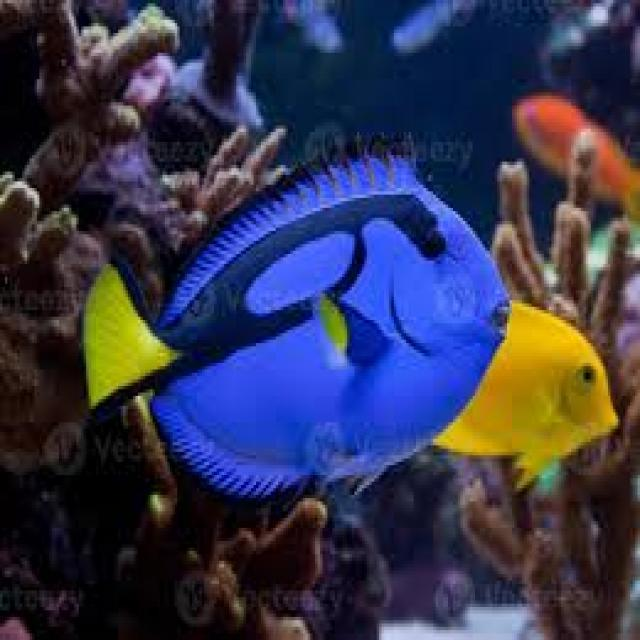TangFish: (78, 139, 508, 506)
